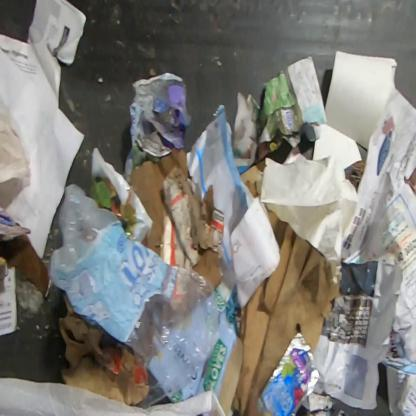cardboard: (232, 210, 344, 415), (130, 148, 226, 286), (58, 292, 150, 406), (168, 280, 244, 415), (201, 410, 220, 416)
soft_plastic: (47, 182, 221, 411), (90, 147, 155, 243), (256, 330, 321, 416)
